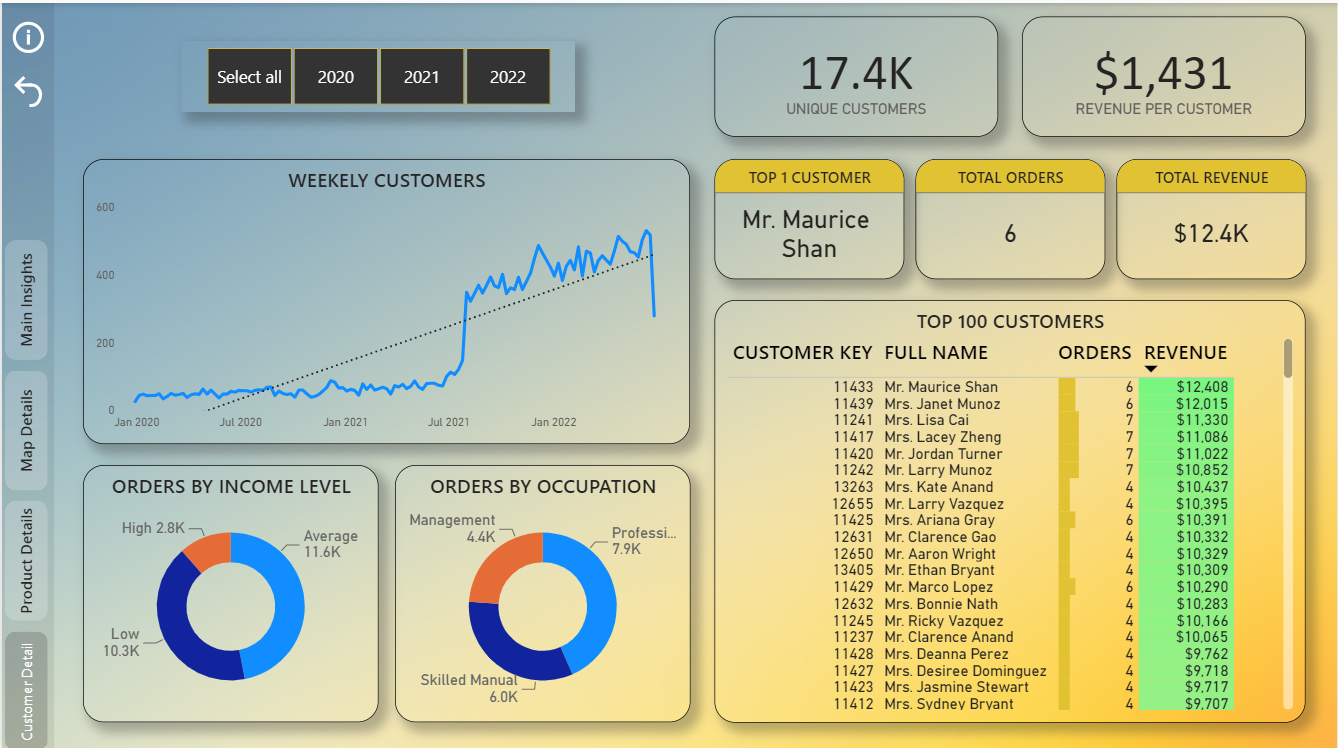

Layout of this report page (visuals, bound fields, positions):
{"tool":"powerbi","page":{"name":"Customer Detail","canvas":[1280,720],"ordinal":3},"visuals":[{"type":"card","fields":{"Values":["Measure Table.Total Customers"]},"box":[683.3,13.3,271.7,115],"z":0},{"type":"card","fields":{"Values":["Measure Table.Average Revenue Per Customer"]},"box":[978.3,13.3,271.7,115],"z":1000},{"type":"lineChart","title":"WEEKELY CUSTOMERS","fields":{"Category":["Calendar Lookup.Date Hierarchy.Start of Year","Calendar Lookup.Date Hierarchy.Start of Month","Calendar Lookup.Date Hierarchy.Start of Week","Calendar Lookup.Date Hierarchy.Date"],"Y":["Measure Table.Total Customers"]},"box":[78.3,150,581.7,273.3],"z":2000},{"type":"donutChart","title":"ORDERS BY INCOME LEVEL","fields":{"Category":["Customer Lookup.Income Level"],"Y":["Measure Table.Total Orders"]},"box":[78.3,443.3,283.3,246.7],"z":3000},{"type":"donutChart","title":"ORDERS BY OCCUPATION","fields":{"Category":["Customer Lookup.Occupation"],"Y":["Measure Table.Total Orders"]},"box":[376.7,443.3,283.3,246.7],"z":4000},{"type":"tableEx","title":"TOP 100 CUSTOMERS","fields":{"Values":["Sales Data.CustomerKey","Customer Lookup.FullName","Measure Table.Total Orders","Measure Table.Total Revenue"]},"box":[683.3,285,566.7,405],"z":5000},{"type":"card","title":"TOP 1 CUSTOMER","fields":{"Values":["Min(Customer Lookup.FullName)"]},"box":[683.3,150,181.7,115],"z":6000},{"type":"card","title":"TOTAL ORDERS","fields":{"Values":["Measure Table.Total Orders"]},"box":[875.8,150,181.7,115],"z":7000},{"type":"card","title":"TOTAL REVENUE","fields":{"Values":["Measure Table.Total Revenue"]},"box":[1068.3,150,181.7,115],"z":8000},{"type":"slicer","fields":{"Values":["Calendar Lookup.Year"]},"box":[171.7,36.7,378.3,68.3],"z":9000},{"type":"shape","box":[0,0,50,720],"z":10000},{"type":"actionButton","box":[0,13.3,50,40],"z":11000},{"type":"actionButton","box":[0,65,50,40],"z":12000},{"type":"pageNavigator","box":[3.3,226.7,41.7,493.3],"z":13000}]}

Visuals, with their boxes on the page's 1280x720 design canvas (x1, y1, x2, y2). These are canvas units, not pixel positions in the 1338x748 screenshot, which may show the page scaled, cropped or inside an application window:
card - Measure Table.Total Customers: <bbox>683, 13, 955, 128</bbox>
card - Measure Table.Average Revenue Per Customer: <bbox>978, 13, 1250, 128</bbox>
"WEEKELY CUSTOMERS" lineChart: <bbox>78, 150, 660, 423</bbox>
"ORDERS BY INCOME LEVEL" donutChart: <bbox>78, 443, 362, 690</bbox>
"ORDERS BY OCCUPATION" donutChart: <bbox>377, 443, 660, 690</bbox>
"TOP 100 CUSTOMERS" tableEx: <bbox>683, 285, 1250, 690</bbox>
"TOP 1 CUSTOMER" card: <bbox>683, 150, 865, 265</bbox>
"TOTAL ORDERS" card: <bbox>876, 150, 1058, 265</bbox>
"TOTAL REVENUE" card: <bbox>1068, 150, 1250, 265</bbox>
slicer - Calendar Lookup.Year: <bbox>172, 37, 550, 105</bbox>
shape: <bbox>0, 0, 50, 720</bbox>
actionButton: <bbox>0, 13, 50, 53</bbox>
actionButton: <bbox>0, 65, 50, 105</bbox>
pageNavigator: <bbox>3, 227, 45, 720</bbox>
